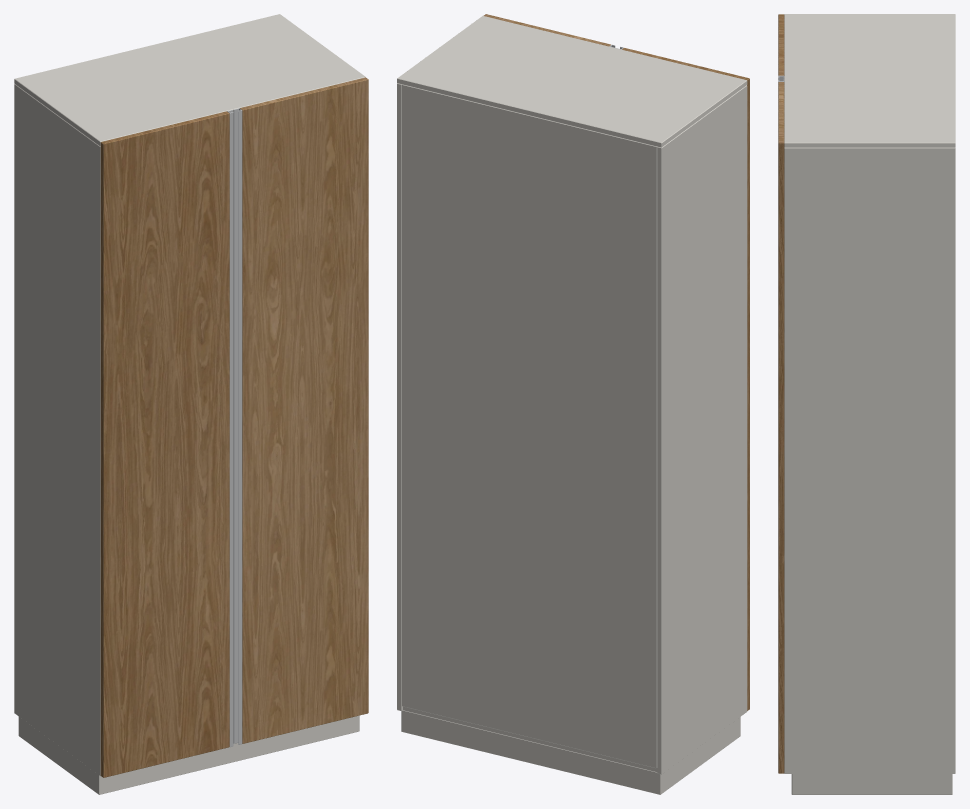
Rendered from armario_roble_2p_100.glb.
3 renders of one model, left to right at view 1: azimuth 30°, elevation 25°; view 2: azimuth 150°, elevation 25°; view 3: azimuth 270°, elevation 25°, orthographic.
Visible parts, largest first — view 1: armario_roble_2p_100; view 2: armario_roble_2p_100; view 3: armario_roble_2p_100.
Boxes of the visible parts, x1,y1,x2,y2 form: armario_roble_2p_100: (14, 14, 368, 794); armario_roble_2p_100: (397, 14, 749, 794); armario_roble_2p_100: (778, 14, 955, 794).
Size of the model in its own units: 1 by 2.36 by 0.5799.
3 materials, 1 textured.
